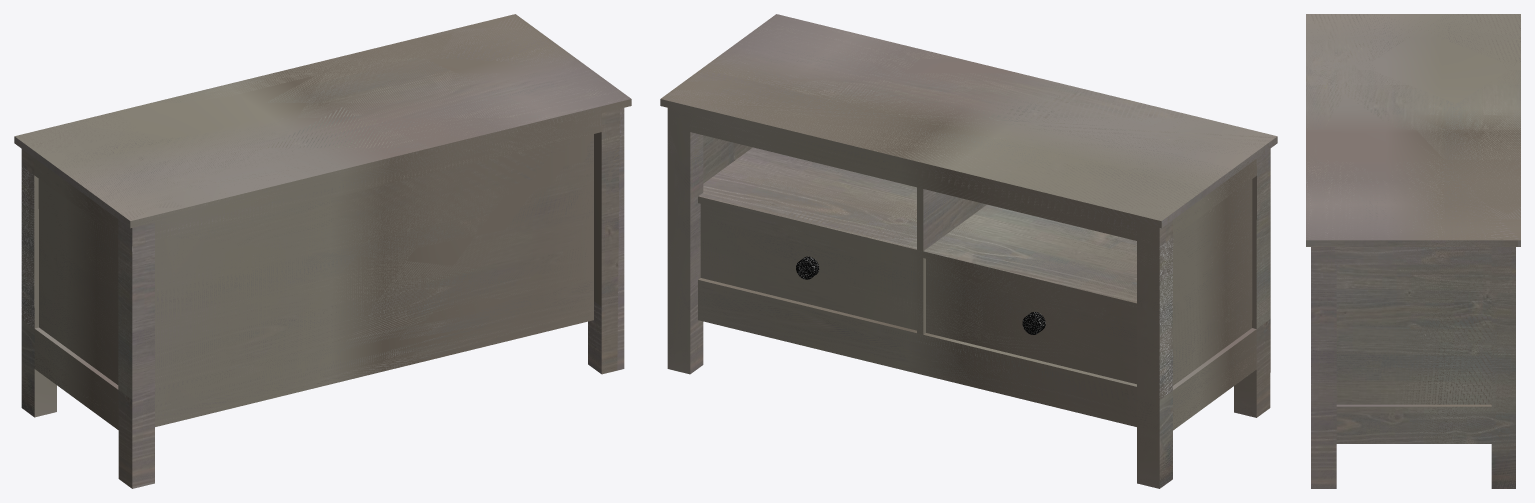
The model's file is table_tv.dae.
3 views of the same model, side by side, from view 1: azimuth 30°, elevation 25°; view 2: azimuth 150°, elevation 25°; view 3: azimuth 270°, elevation 25° (orthographic). The views are drawn at different scales.
Visible parts, largest first — view 1: SketchUp (×2); view 2: SketchUp (×2); view 3: SketchUp.
Boxes of the visible parts, x1,y1,x2,y2 form: SketchUp (×2): (14,14,631,488); SketchUp (×2): (660,14,1277,488); SketchUp: (1306,14,1520,488).
Size of the model in its own units: 1.1 by 0.4428 by 0.57.
29 materials, 28 textured.
